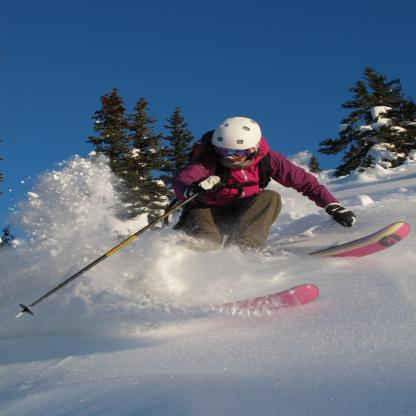Helmet: (208, 115, 260, 164)
